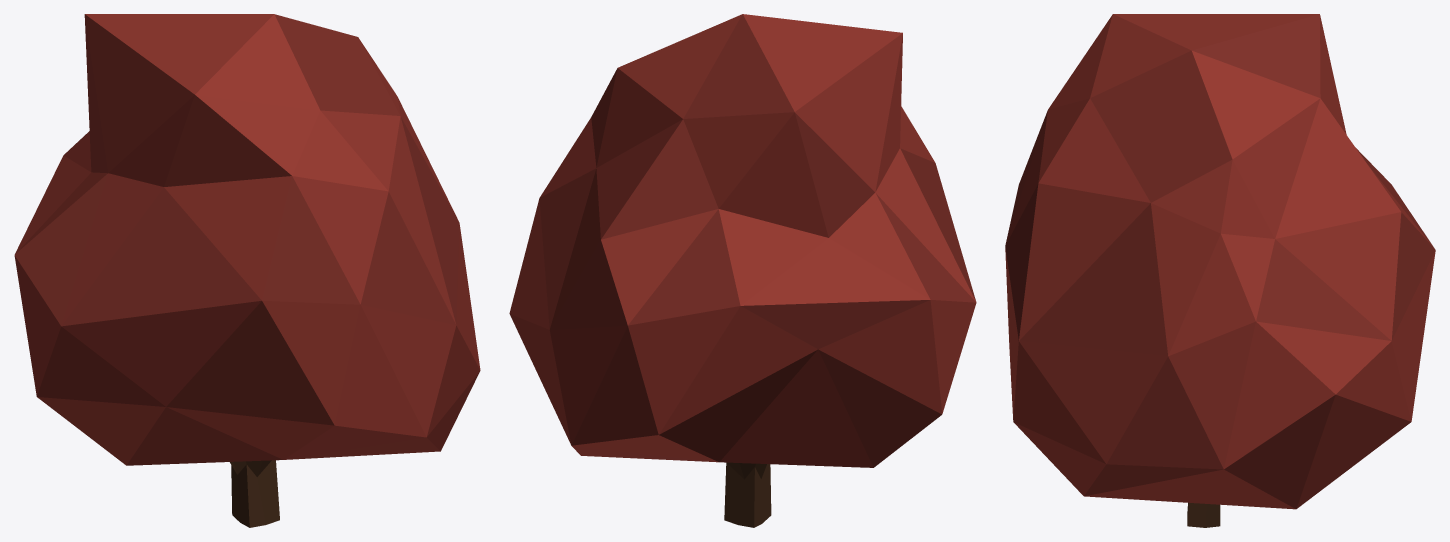
File: Tree_10_Red.fbx
3 views of the same model, side by side, from view 1: azimuth 30°, elevation 25°; view 2: azimuth 150°, elevation 25°; view 3: azimuth 270°, elevation 25° (orthographic). The views are drawn at different scales.
Visible parts, largest first — view 1: Tree_10_Red; view 2: Tree_10_Red; view 3: Tree_10_Red.
Boxes of the visible parts, bbox=[...] form: Tree_10_Red: bbox=[14, 14, 480, 527]; Tree_10_Red: bbox=[509, 14, 976, 527]; Tree_10_Red: bbox=[1005, 14, 1435, 527].
Bounding box in the file's own units: 682 × 802 × 656.
